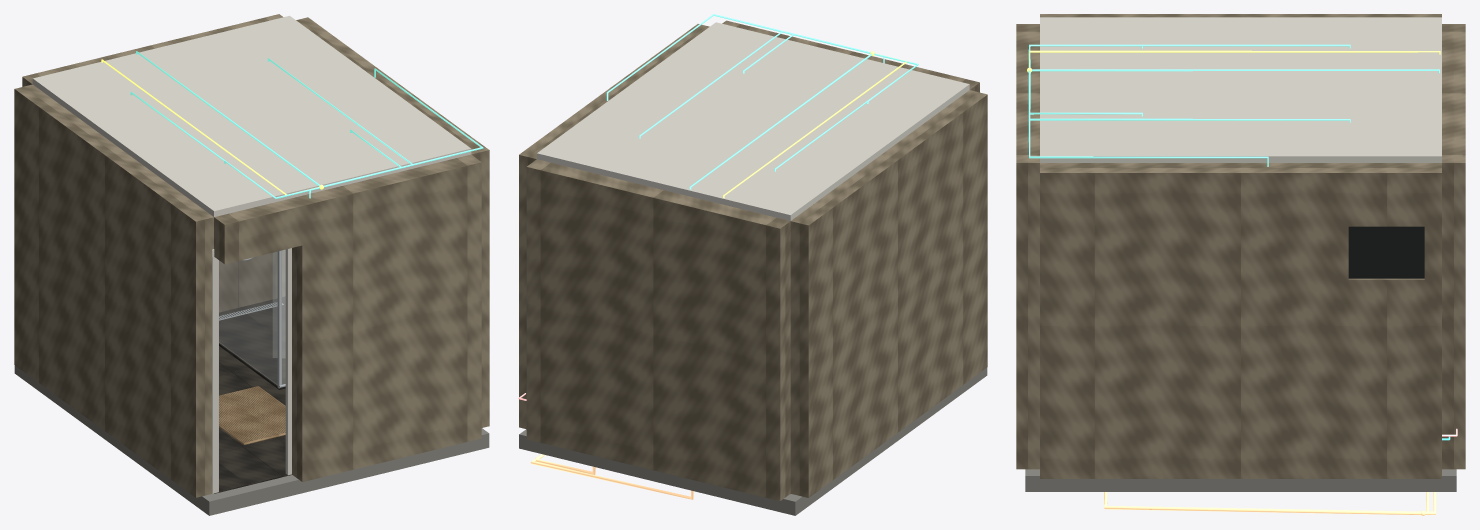
File: 19_Alternatif_6_2.glb
The picture shows the model from 3 angles, left to right: view 1: azimuth 30°, elevation 25°; view 2: azimuth 150°, elevation 25°; view 3: azimuth 270°, elevation 25°; orthographic projection. The views are drawn at different scales.
Parts seen in each view (by area): view 1: Ön duvar | sunum için gizli, Sol duvar, Tavan | plan görünümünde gizlenir, Kabin yan sabit cam, Zemin taşıyıcı, Sağ duvar / gerçek pencere boşluğu, Arka duvar / gerçek niş boşlukları, Duş eğimli zemin sınırı 90x140, Dokulu banyo paspası, Zemin seramik / derz 2mm, Kapı pervazı, Kapı pervazı.001 (+6 smaller); view 2: Arka duvar / gerçek niş boşlukları, Sol duvar, Tavan | plan görünümünde gizlenir, Zemin taşıyıcı, Sağ duvar / gerçek pencere boşluğu, Ön duvar | sunum için gizli, E8-hat | Duş nişi LED kablo yolu, G1-hat | Lavabo gider çıkışı → ana gider; view 3: Sağ duvar / gerçek pencere boşluğu, Tavan | plan görünümünde gizlenir, Arka duvar / gerçek niş boşlukları, Ön duvar | sunum için gizli, Zemin taşıyıcı, Havalandırma karanlık iç boşluğu, Sol duvar, G2-hat | WC gider çıkışı → ana gider, E-2 | Priz besleme güzergâhı, E-3 | Ayna aydınlatma güzergâhı, E8-hat | Duş nişi LED kablo yolu, E-6 | Tavan ışığı 3 güzergâhı (+1 smaller).
Part boxes in pixels (bbox=[...]): Ön duvar | sunum için gizli: bbox=[214, 154, 481, 481]; Sol duvar: bbox=[14, 84, 213, 497]; Tavan | plan görünümünde gizlenir: bbox=[32, 15, 471, 216]; Kabin yan sabit cam: bbox=[219, 251, 279, 384]; Zemin taşıyıcı: bbox=[14, 365, 489, 515]; Sağ duvar / gerçek pencere boşluğu: bbox=[296, 17, 489, 427]; Arka duvar / gerçek niş boşlukları: bbox=[22, 14, 285, 312]; Duş eğimli zemin sınırı 90x140: bbox=[219, 297, 285, 389]; Dokulu banyo paspası: bbox=[219, 386, 285, 445]; Zemin seramik / derz 2mm: bbox=[214, 447, 282, 493]; Kapı pervazı: bbox=[212, 257, 218, 493]; Kapı pervazı.001: bbox=[285, 248, 291, 475]; Arka duvar / gerçek niş boşlukları: bbox=[526, 159, 790, 501]; Sol duvar: bbox=[790, 90, 987, 497]; Tavan | plan görünümünde gizlenir: bbox=[537, 22, 969, 220]; Zemin taşıyıcı: bbox=[519, 367, 987, 515]; Sağ duvar / gerçek pencere boşluğu: bbox=[519, 24, 709, 429]; Ön duvar | sunum için gizli: bbox=[722, 20, 979, 92]; E8-hat | Duş nişi LED kablo yolu: bbox=[606, 14, 870, 100]; G1-hat | Lavabo gider çıkışı → ana gider: bbox=[530, 458, 693, 499]; Sağ duvar / gerçek pencere boşluğu: bbox=[1040, 163, 1441, 478]; Tavan | plan görünümünde gizlenir: bbox=[1040, 17, 1441, 162]; Arka duvar / gerçek niş boşlukları: bbox=[1442, 24, 1465, 469]; Ön duvar | sunum için gizli: bbox=[1016, 24, 1039, 469]; Zemin taşıyıcı: bbox=[1025, 469, 1456, 491]; Havalandırma karanlık iç boşluğu: bbox=[1348, 226, 1424, 278]; Sol duvar: bbox=[1040, 14, 1441, 17]; G2-hat | WC gider çıkışı → ana gider: bbox=[1104, 492, 1421, 515]; E-2 | Priz besleme güzergâhı: bbox=[1029, 50, 1440, 67]; E-3 | Ayna aydınlatma güzergâhı: bbox=[1032, 69, 1439, 73]; E8-hat | Duş nişi LED kablo yolu: bbox=[1028, 70, 1268, 166]; E-6 | Tavan ışığı 3 güzergâhı: bbox=[1030, 44, 1350, 48].
Size of the model in its own units: 2.57 by 2.72 by 3.07.
Materials: 22 (4 with a texture image).
